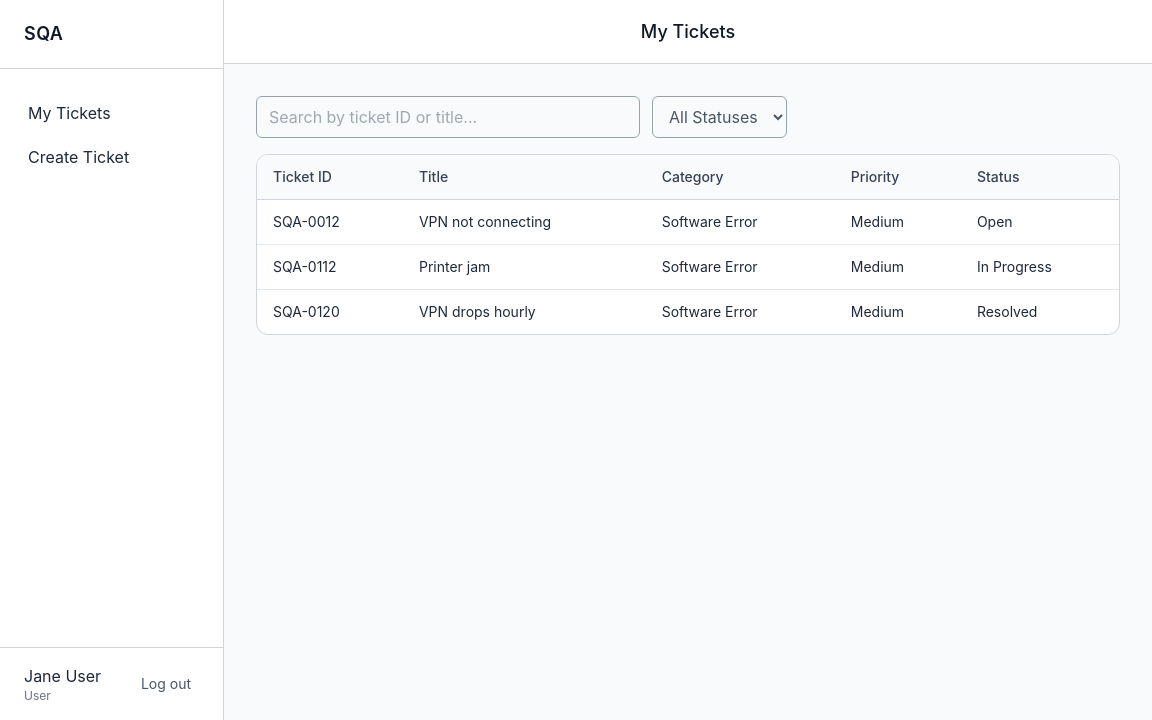
Scenario: MyTickets page (FR-3 / FR-5) › TC-FR56-14: a search with no matches says so instead of claiming the user has no tickets
This screenshot has width=1152, height=720.
Expected: the text "VPN not connecting" is shown, [403,200,646,244]
Type "SQA-9999" into the field with placeholder "Search by ticket ID or title...". click: (448, 117)
box: [256,96,640,138]
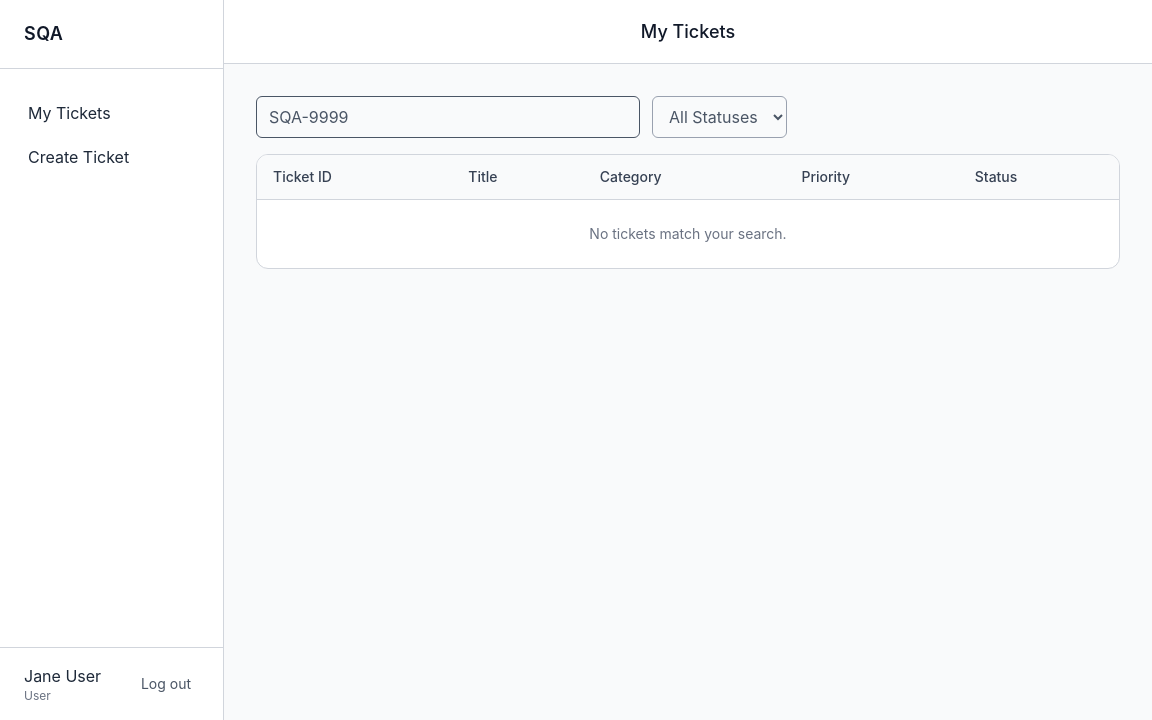
Expected: the text "No tickets match your search." is shown, [257,200,1119,268]
